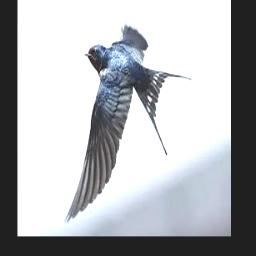Swallow: (63, 22, 192, 224)
